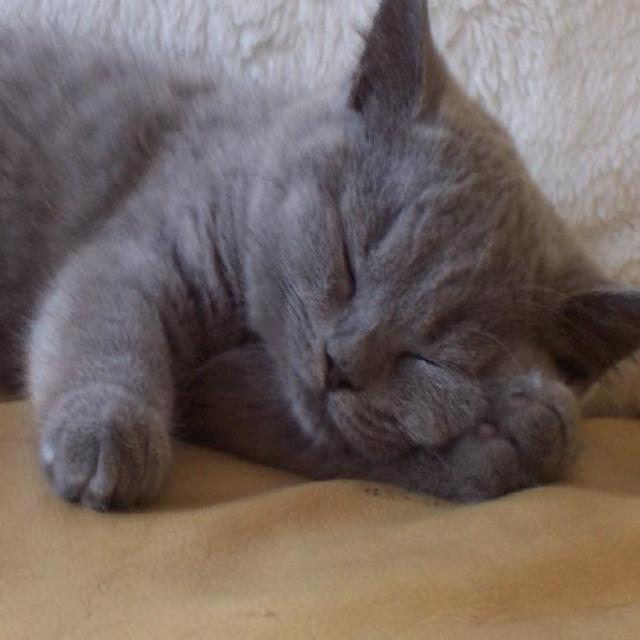British Shorthair: (0, 0, 640, 522)
